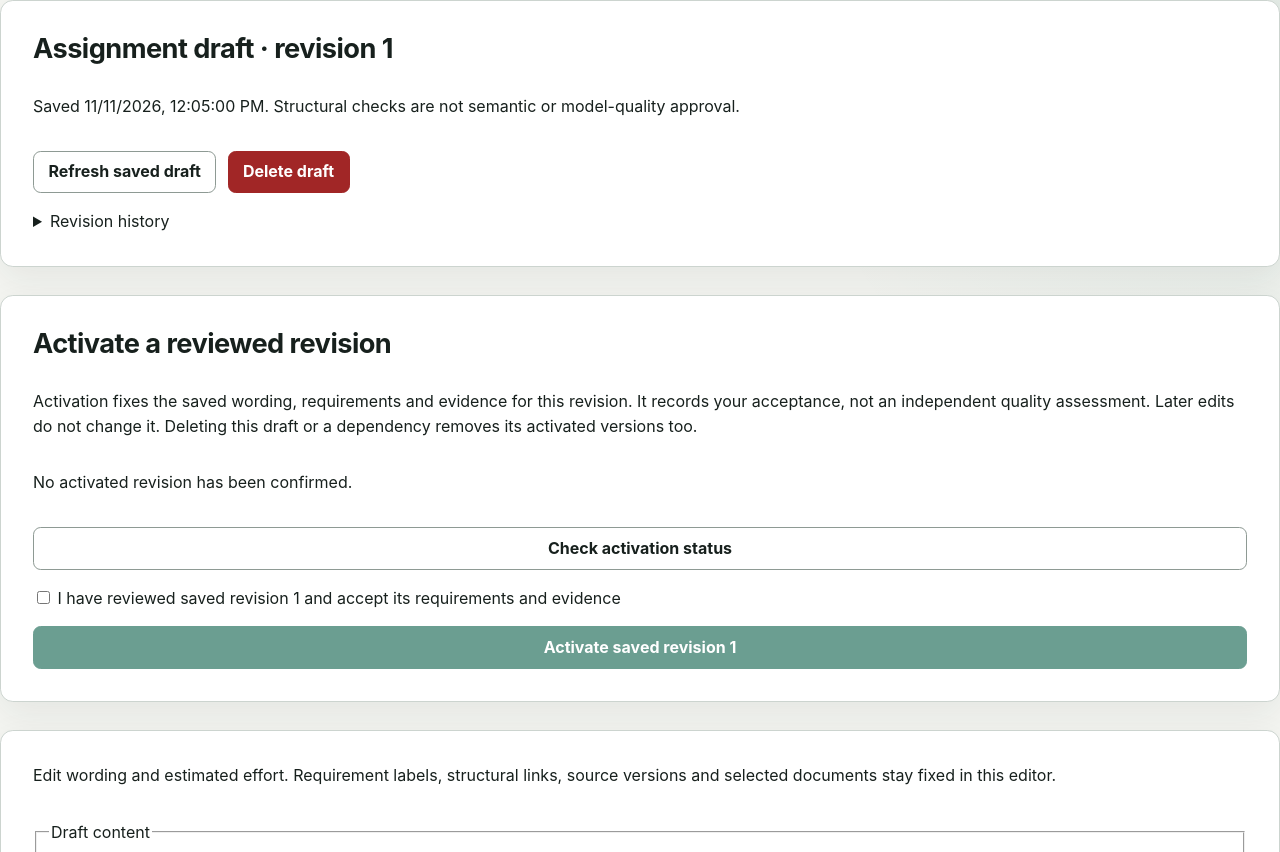
explicit reviewed assignment activation › fences a late activation after the whole draft was explicitly deleted
What coordinates should you click on to do the following:
click the checkbox labelled "I have reviewed saved revision"
I would click on:
 (44, 597)
Its box is [37, 590, 50, 604].
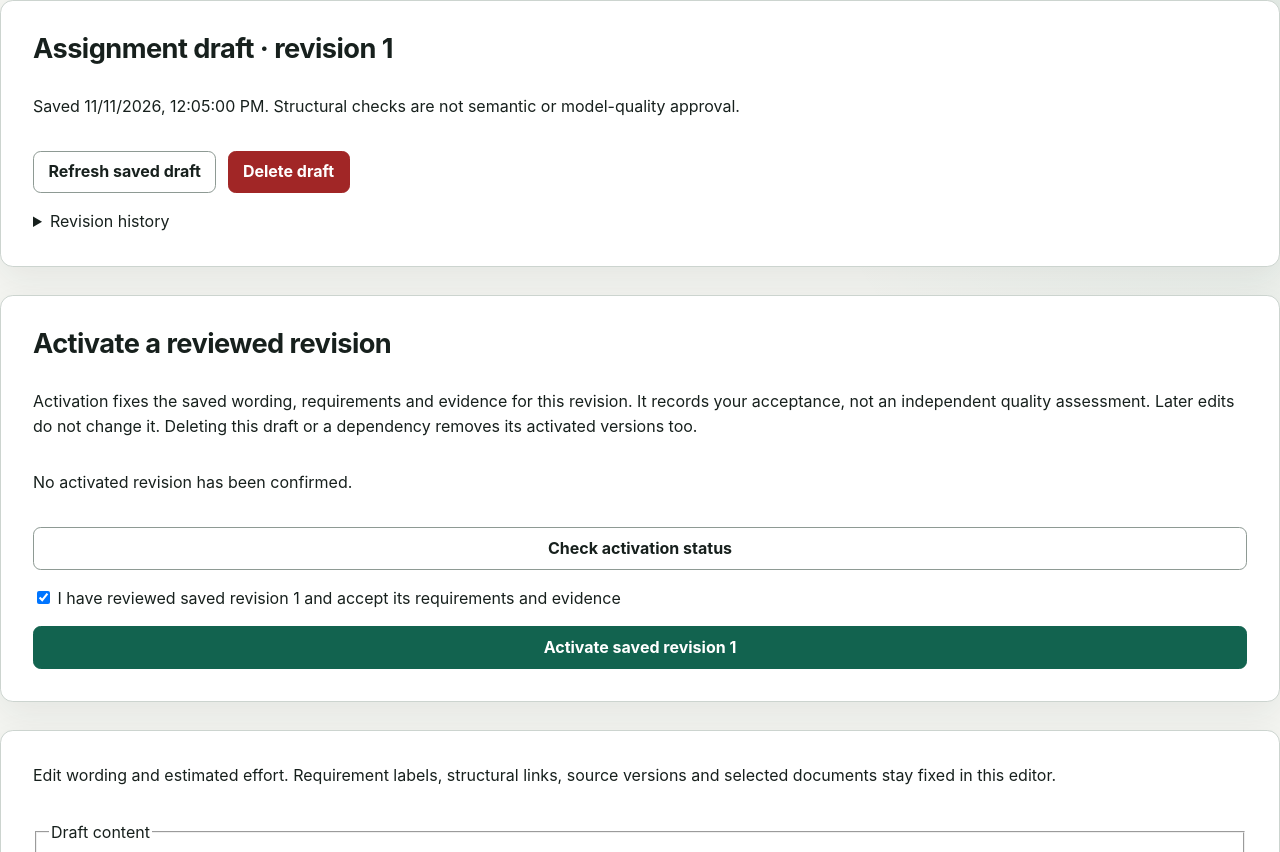
What coordinates should you click on to do the following:
click the button "Activate saved revision 1"
I would click on:
 (640, 648)
Its box is [33, 626, 1247, 669].
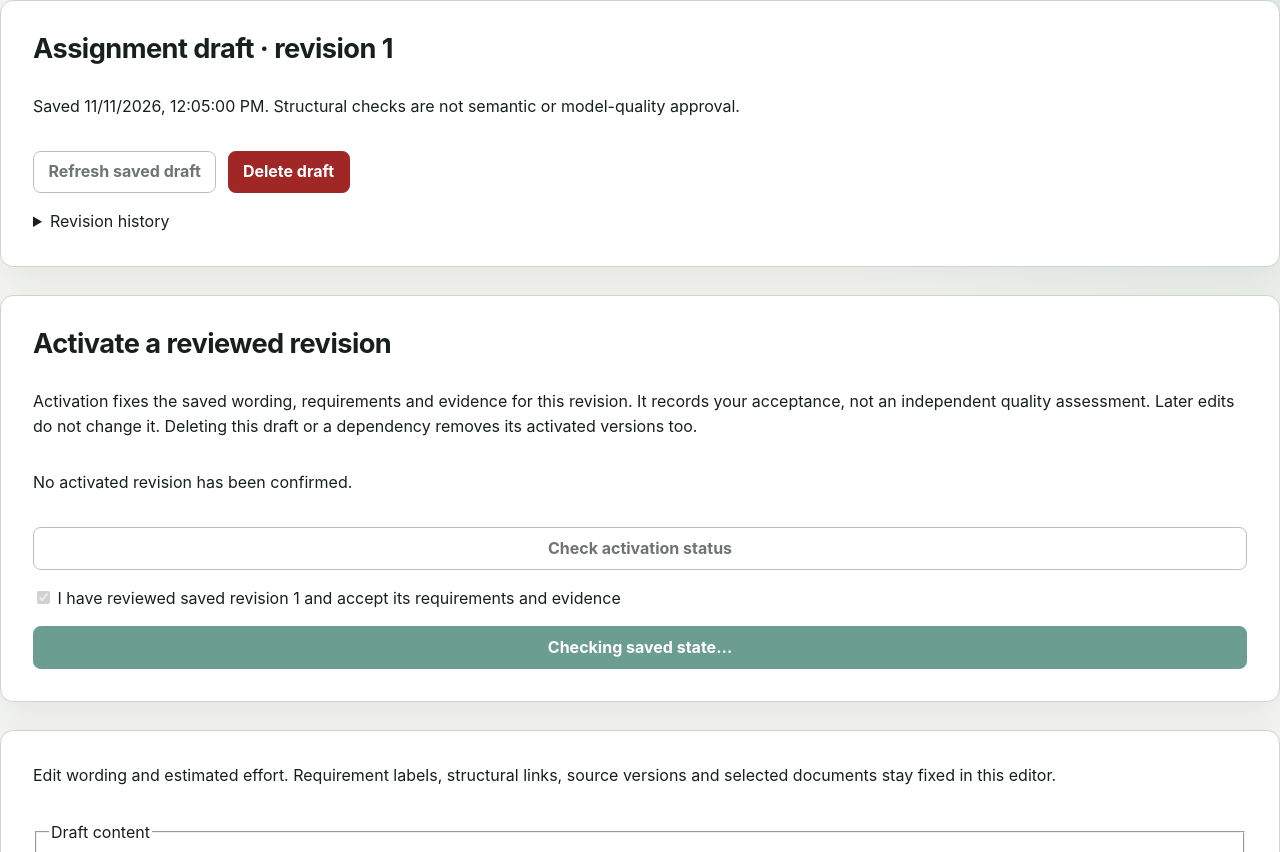
What coordinates should you click on to do the following:
click the button "Delete draft"
I would click on:
 (288, 172)
Its box is [228, 151, 350, 193].
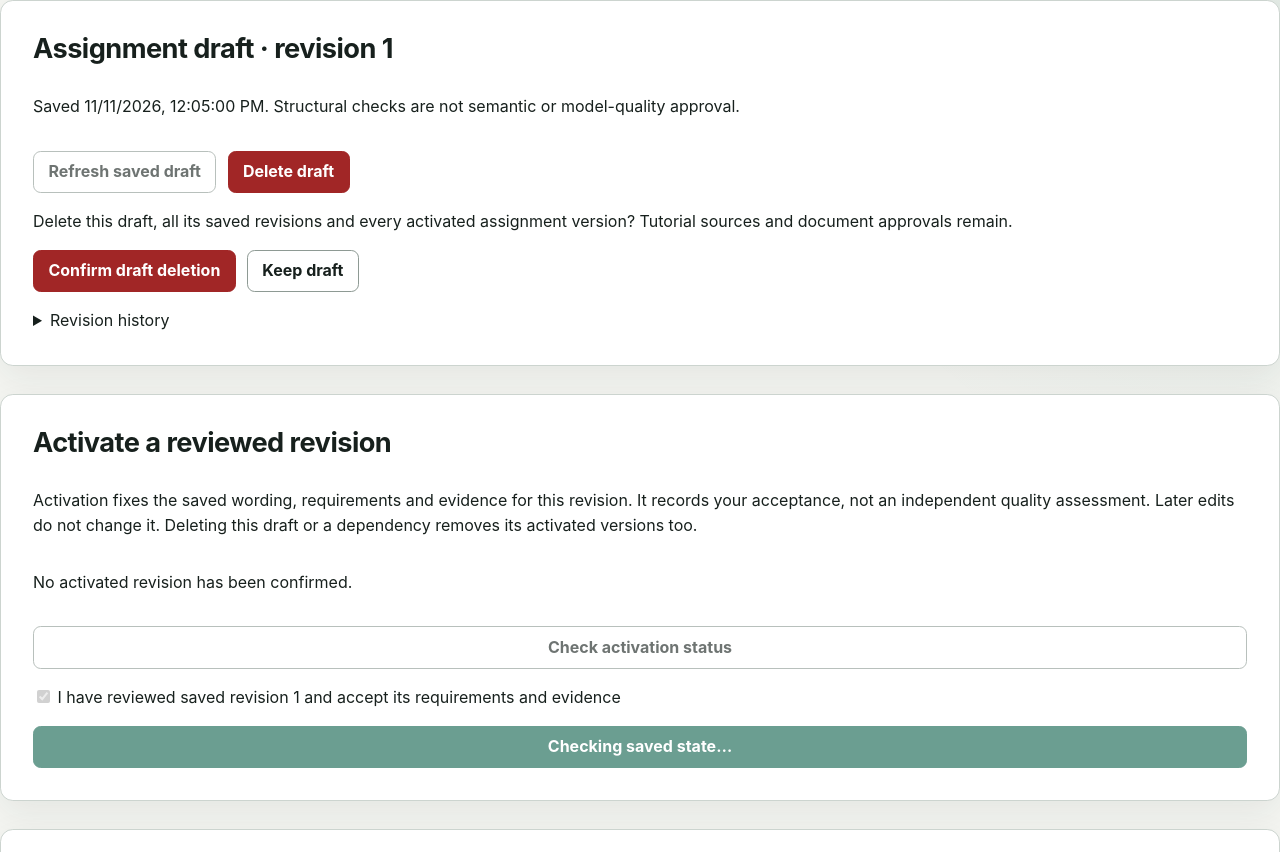
Expected: the element named "Confirm draft deletion" shows "every activated assignment version", [33, 211, 1013, 231]
What coordinates should you click on to do the following:
click the button "Confirm draft deletion"
I would click on:
 (134, 271)
Its box is [33, 250, 236, 292].
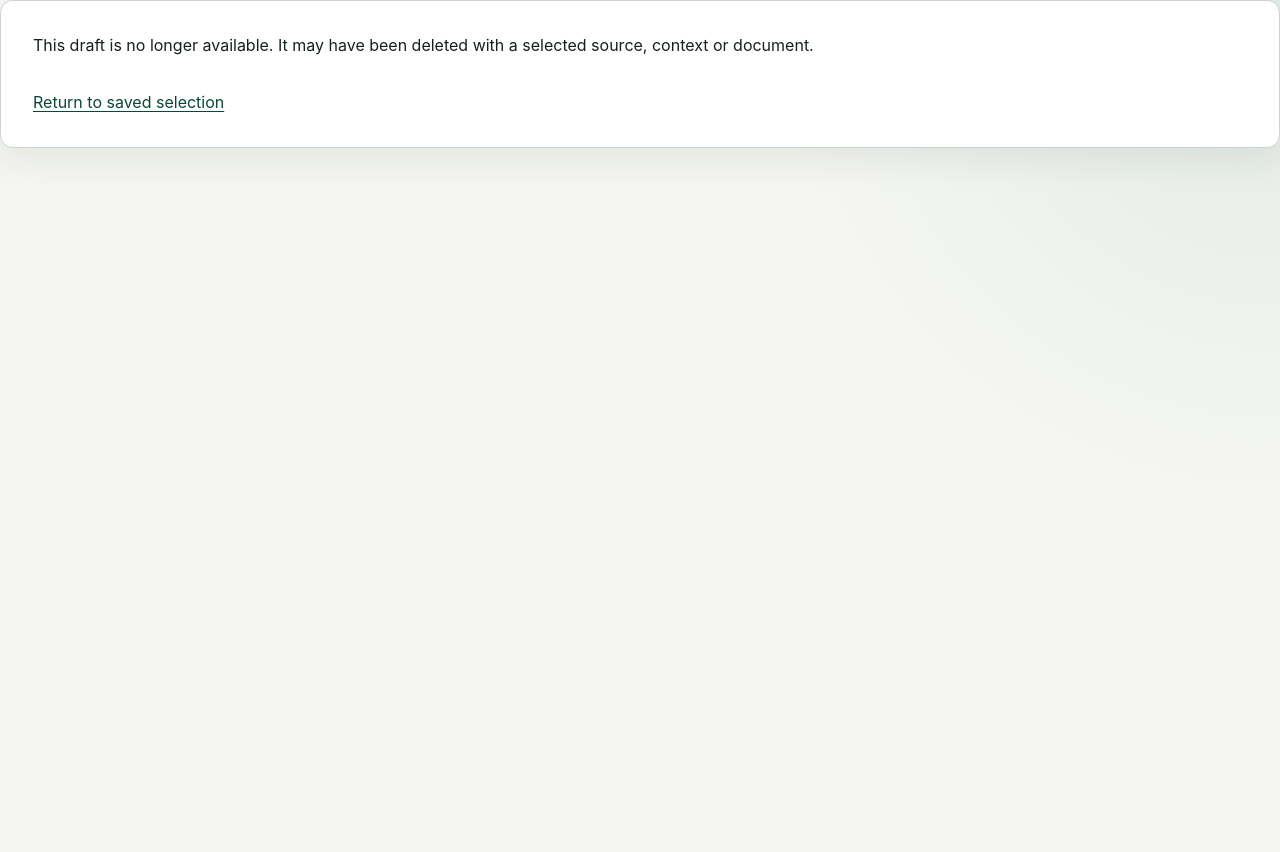
Expected: the text "This draft is no longer available" is shown, [33, 35, 814, 55]
